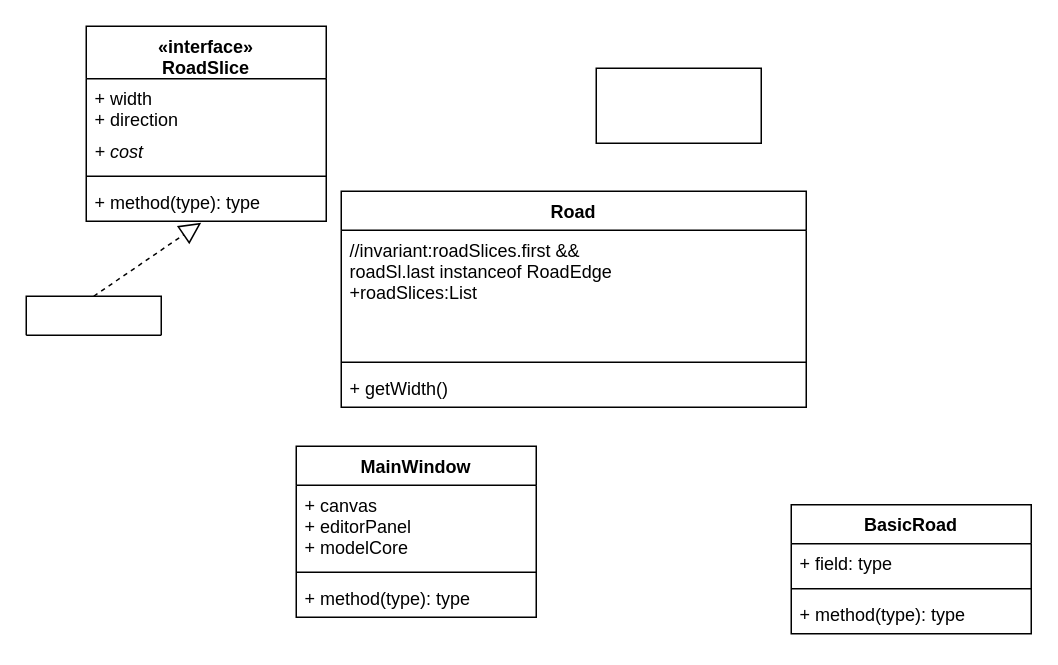
Image size: 1058x665. Some labels were removed from this diagram. Each missing label, with the centre of its shape:
RoadEdge: the point at 93,315
«enumeration» Direction: the point at 678,105
